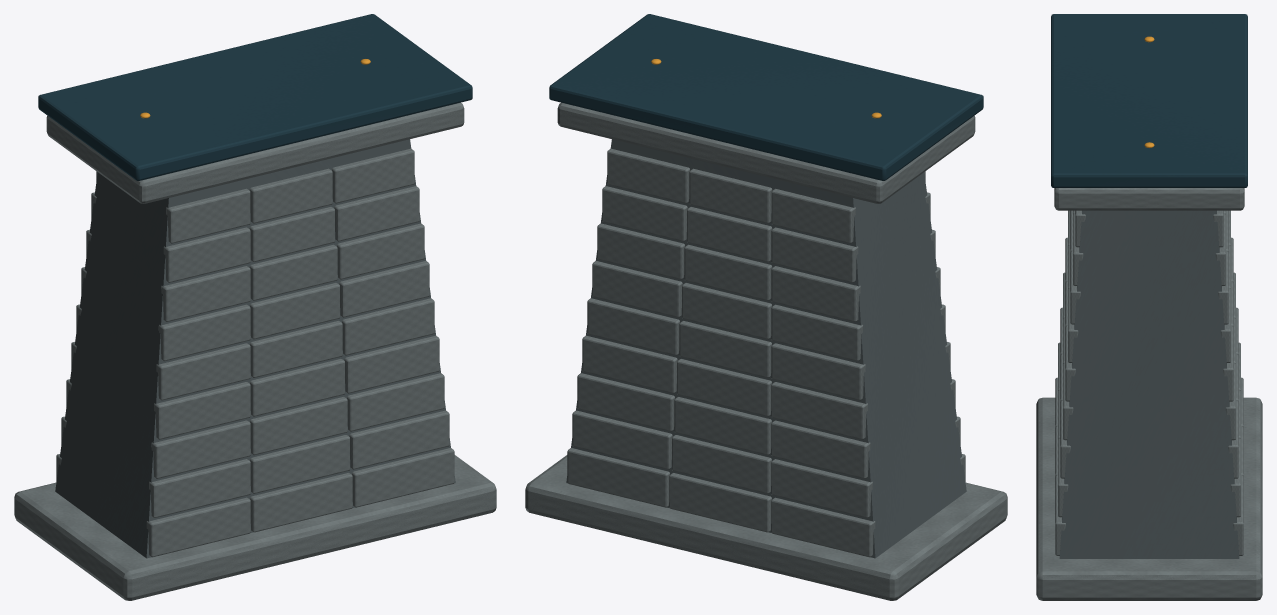
Rendered from Building_Bridge_StonePier4m_001.glb.
3 renders of one model, left to right at view 1: azimuth 30°, elevation 25°; view 2: azimuth 150°, elevation 25°; view 3: azimuth 270°, elevation 25°, orthographic.
Visible parts, largest first — view 1: StonePier4m_Body; view 2: StonePier4m_Body; view 3: StonePier4m_Body.
Boxes of the visible parts, x1=… form: StonePier4m_Body: x1=14, y1=14, x2=496, y2=600; StonePier4m_Body: x1=525, y1=14, x2=1007, y2=600; StonePier4m_Body: x1=1036, y1=14, x2=1262, y2=600.
Bounding box in the file's own units: 3.65 × 4.03 × 1.95.
1 material, 1 textured.
